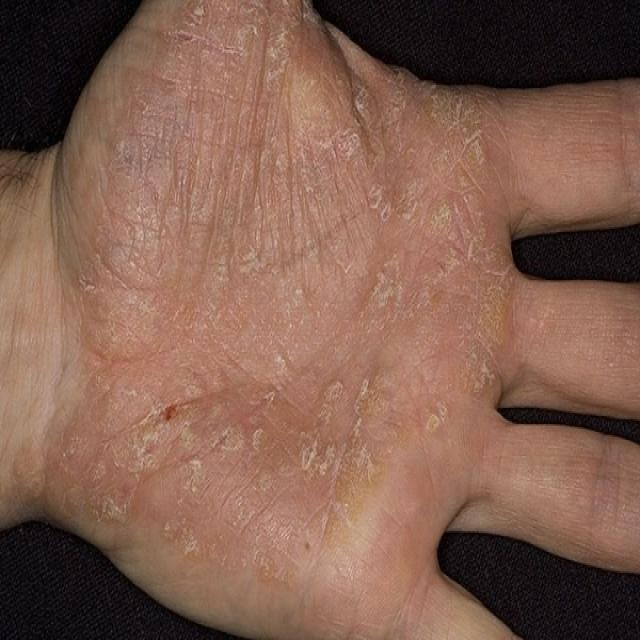Psoriasis Pustulosa: (0, 0, 639, 638)
